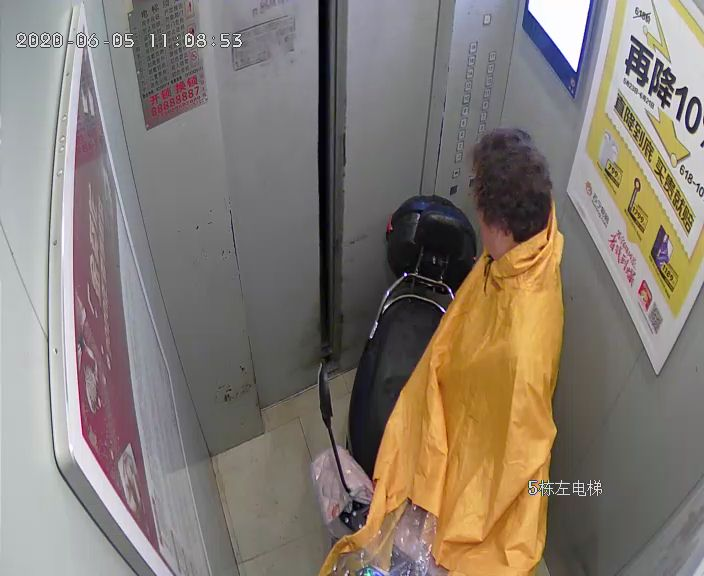Electric-bicycle: (343, 194, 481, 547)
